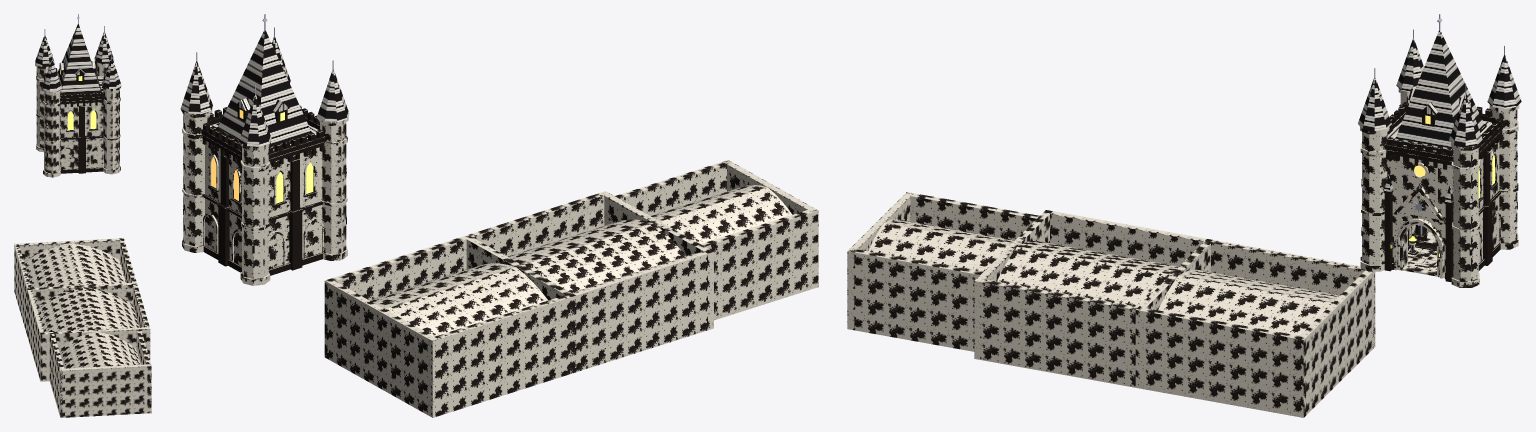
Rendered from ILHA3_17_DUNGEON_545a69.fbx.
3 views of the same model, side by side, from view 1: azimuth 30°, elevation 25°; view 2: azimuth 150°, elevation 25°; view 3: azimuth 270°, elevation 25° (orthographic). The views are drawn at different scales.
Parts seen in each view (by area): view 1: SG_Dun_Rooms_Shell__Stone_SG_Castle, SG_Dun_Rooms_Vault__Stone_SGDunVault, SG_Dun_House_Body__Stone_SG_Castle, SG_Dun_House_Body__Roof_SG_Navy, SG_Dun_House_Body__Stone_SG_Trim, SG_Dun_House_Body__Stone_SG_Castle_B, SG_Dun_House_Body__Stone_SGDunVault, SG_Dun_House_Body__Stone_SG_Block, SG_Dun_House_Body__Window_Warm; view 2: SG_Dun_Rooms_Shell__Stone_SG_Castle, SG_Dun_Rooms_Vault__Stone_SGDunVault, SG_Dun_House_Body__Stone_SG_Castle, SG_Dun_House_Body__Roof_SG_Navy, SG_Dun_House_Body__Stone_SG_Trim, SG_Dun_House_Body__Stone_SG_Castle_B, SG_Dun_House_Body__Stone_SGDunVault, SG_Dun_House_Body__Stone_SG_Block, SG_Dun_House_Body__Window_Warm; view 3: SG_Dun_Rooms_Shell__Stone_SG_Castle, SG_Dun_Rooms_Vault__Stone_SGDunVault, SG_Dun_House_Body__Stone_SG_Castle, SG_Dun_House_Body__Roof_SG_Navy, SG_Dun_House_Body__Stone_SG_Castle_B, SG_Dun_House_Body__Stone_SG_Trim, SG_Dun_House_Body__Stone_SG_Block, SG_Dun_House_Interior__Stone_SG_Trim.
Boxes of the visible parts, x1=… form: SG_Dun_Rooms_Shell__Stone_SG_Castle: x1=14, y1=238, x2=151, y2=417; SG_Dun_Rooms_Vault__Stone_SGDunVault: x1=24, y1=243, x2=140, y2=368; SG_Dun_House_Body__Stone_SG_Castle: x1=36, y1=65, x2=119, y2=173; SG_Dun_House_Body__Roof_SG_Navy: x1=35, y1=24, x2=121, y2=157; SG_Dun_House_Body__Stone_SG_Trim: x1=35, y1=60, x2=121, y2=169; SG_Dun_House_Body__Stone_SG_Castle_B: x1=44, y1=68, x2=104, y2=173; SG_Dun_House_Body__Stone_SGDunVault: x1=61, y1=147, x2=103, y2=169; SG_Dun_House_Body__Stone_SG_Block: x1=36, y1=144, x2=120, y2=177; SG_Dun_House_Body__Window_Warm: x1=60, y1=69, x2=96, y2=130; SG_Dun_Rooms_Shell__Stone_SG_Castle: x1=324, y1=160, x2=818, y2=417; SG_Dun_Rooms_Vault__Stone_SGDunVault: x1=370, y1=185, x2=792, y2=336; SG_Dun_House_Body__Stone_SG_Castle: x1=183, y1=107, x2=346, y2=279; SG_Dun_House_Body__Roof_SG_Navy: x1=180, y1=30, x2=349, y2=253; SG_Dun_House_Body__Stone_SG_Trim: x1=181, y1=108, x2=348, y2=265; SG_Dun_House_Body__Stone_SG_Castle_B: x1=201, y1=105, x2=325, y2=266; SG_Dun_House_Body__Stone_SGDunVault: x1=204, y1=215, x2=322, y2=269; SG_Dun_House_Body__Stone_SG_Block: x1=182, y1=239, x2=347, y2=285; SG_Dun_House_Body__Window_Warm: x1=211, y1=109, x2=313, y2=203; SG_Dun_Rooms_Shell__Stone_SG_Castle: x1=847, y1=192, x2=1375, y2=417; SG_Dun_Rooms_Vault__Stone_SGDunVault: x1=868, y1=219, x2=1339, y2=335; SG_Dun_House_Body__Stone_SG_Castle: x1=1362, y1=93, x2=1517, y2=281; SG_Dun_House_Body__Roof_SG_Navy: x1=1358, y1=30, x2=1521, y2=255; SG_Dun_House_Body__Stone_SG_Castle_B: x1=1384, y1=106, x2=1502, y2=278; SG_Dun_House_Body__Stone_SG_Trim: x1=1360, y1=88, x2=1519, y2=278; SG_Dun_House_Body__Stone_SG_Block: x1=1360, y1=234, x2=1518, y2=287; SG_Dun_House_Interior__Stone_SG_Trim: x1=1403, y1=225, x2=1437, y2=276.
Size of the model in its own units: 111 by 116 by 177.
Materials: 8 (2 with a texture image).
